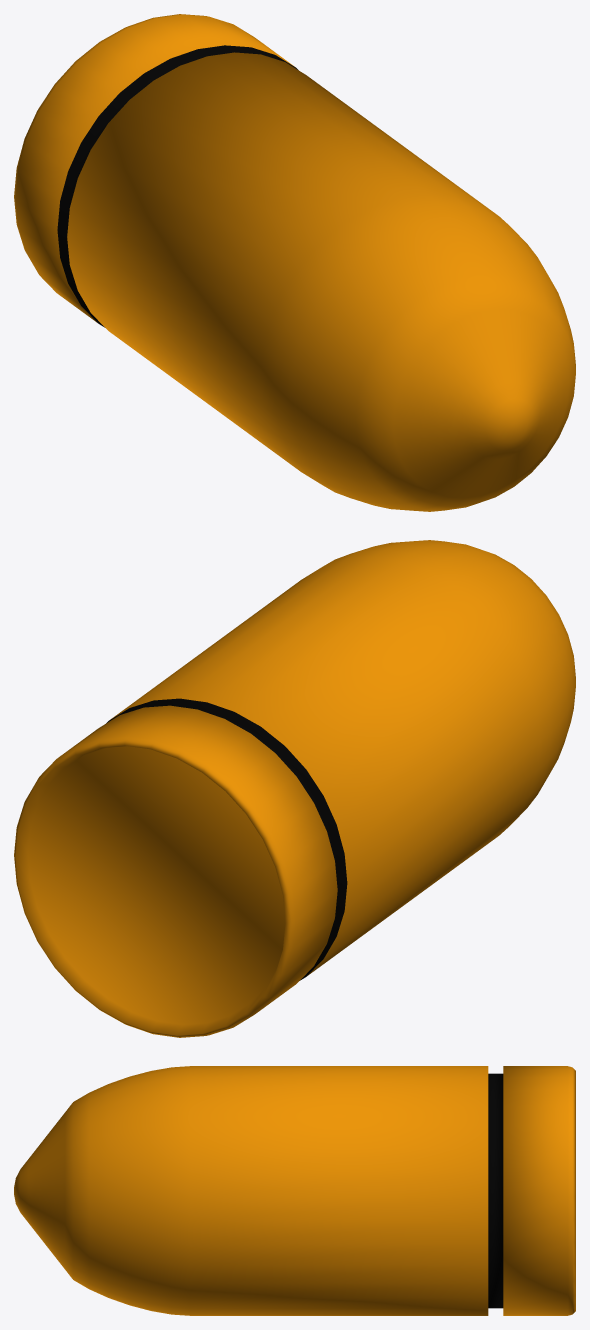
Rendered from Bullet.fbx.
The picture shows the model from 3 angles, top to bottom: view 1: azimuth 30°, elevation 25°; view 2: azimuth 150°, elevation 25°; view 3: azimuth 270°, elevation 25°; orthographic projection. The views are drawn at different scales.
Visible parts, largest first — view 1: Cylinder; view 2: Cylinder; view 3: Cylinder.
Part boxes in pixels (x1,y1,x2,y2): Cylinder: (14,14,575,511); Cylinder: (14,540,575,1037); Cylinder: (14,1066,575,1315).
Bounding box in the file's own units: 117 × 117 × 263.
